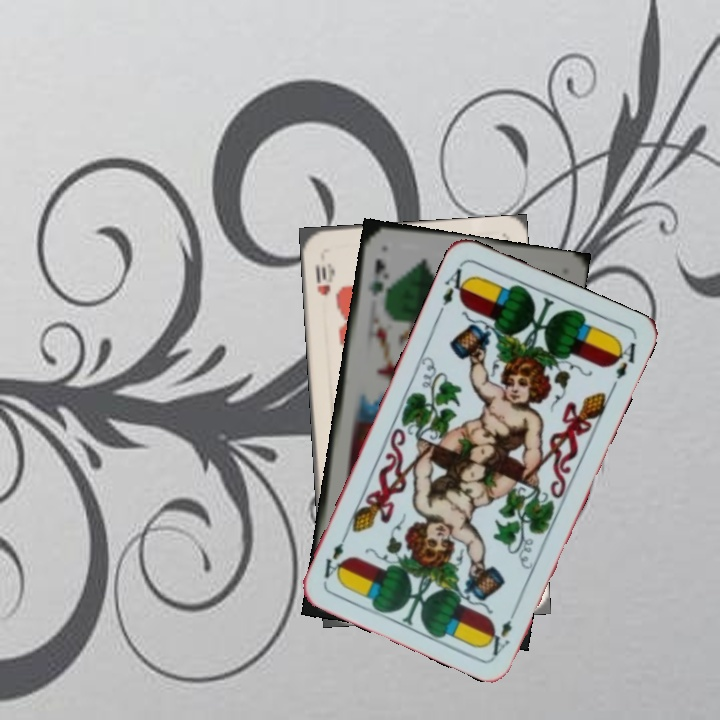EA: (484, 602, 521, 658), (438, 261, 472, 308)
GK: (363, 255, 389, 299)
H10: (311, 259, 335, 298)
